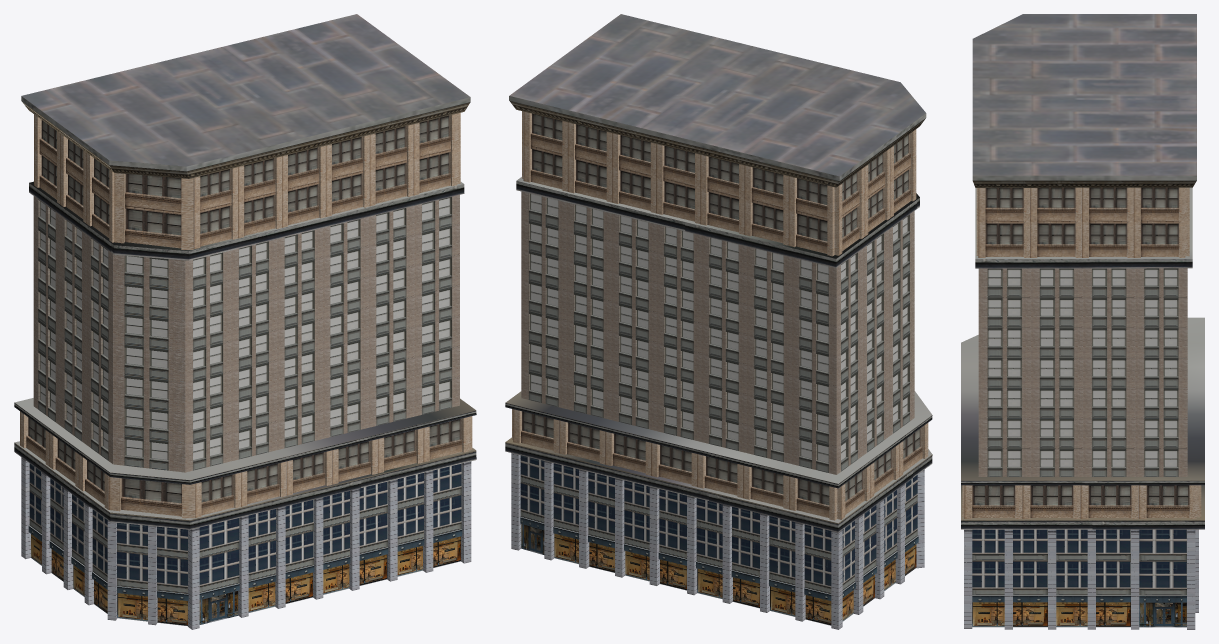
Rendered from Building.fbx.
The picture shows the model from 3 angles, left to right: view 1: azimuth 30°, elevation 25°; view 2: azimuth 150°, elevation 25°; view 3: azimuth 270°, elevation 25°; orthographic projection.
Visible parts, largest first — view 1: Plane.093; view 2: Plane.093; view 3: Plane.093.
Boxes of the visible parts, <box> form: Plane.093: <box>14,14,476,629</box>; Plane.093: <box>505,14,932,629</box>; Plane.093: <box>961,14,1204,629</box>.
Size of the model in its own units: 59.91 by 77.89 by 37.86.
